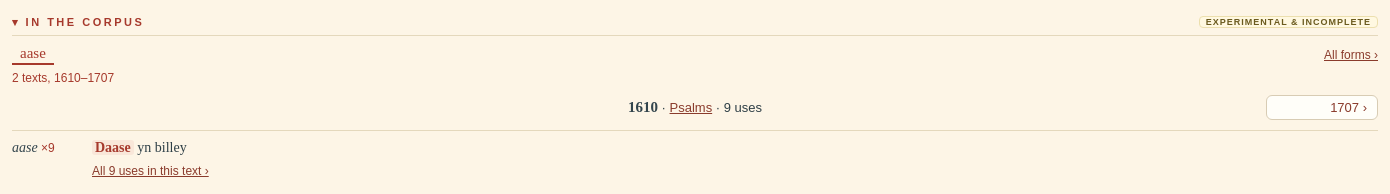
it: AttestationWalker › shuts on click and remembers the choice
The width and height of the screenshot is (1390, 194).
Expected: the text "Daase" is shown, [92, 140, 134, 155]
Click the button "▾ In the corpus". click: [78, 22]
box: [12, 16, 144, 29]
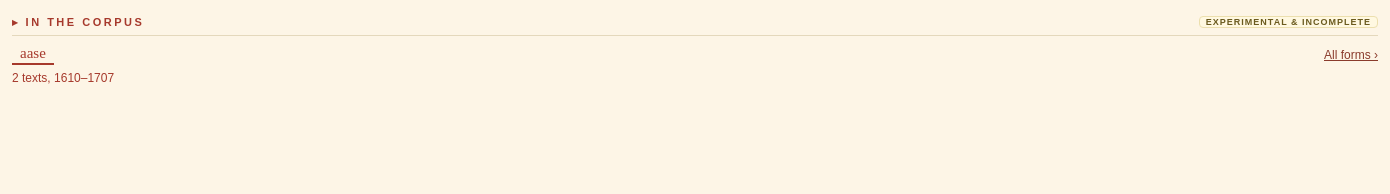
Result: the button "▸ In the corpus" is collapsed at [12, 16, 144, 29]
